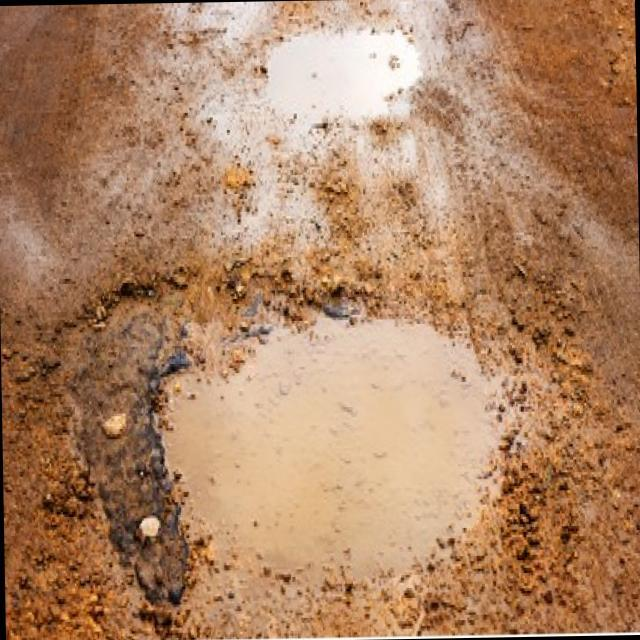Pothole: (135, 289, 514, 597), (262, 21, 422, 139)
